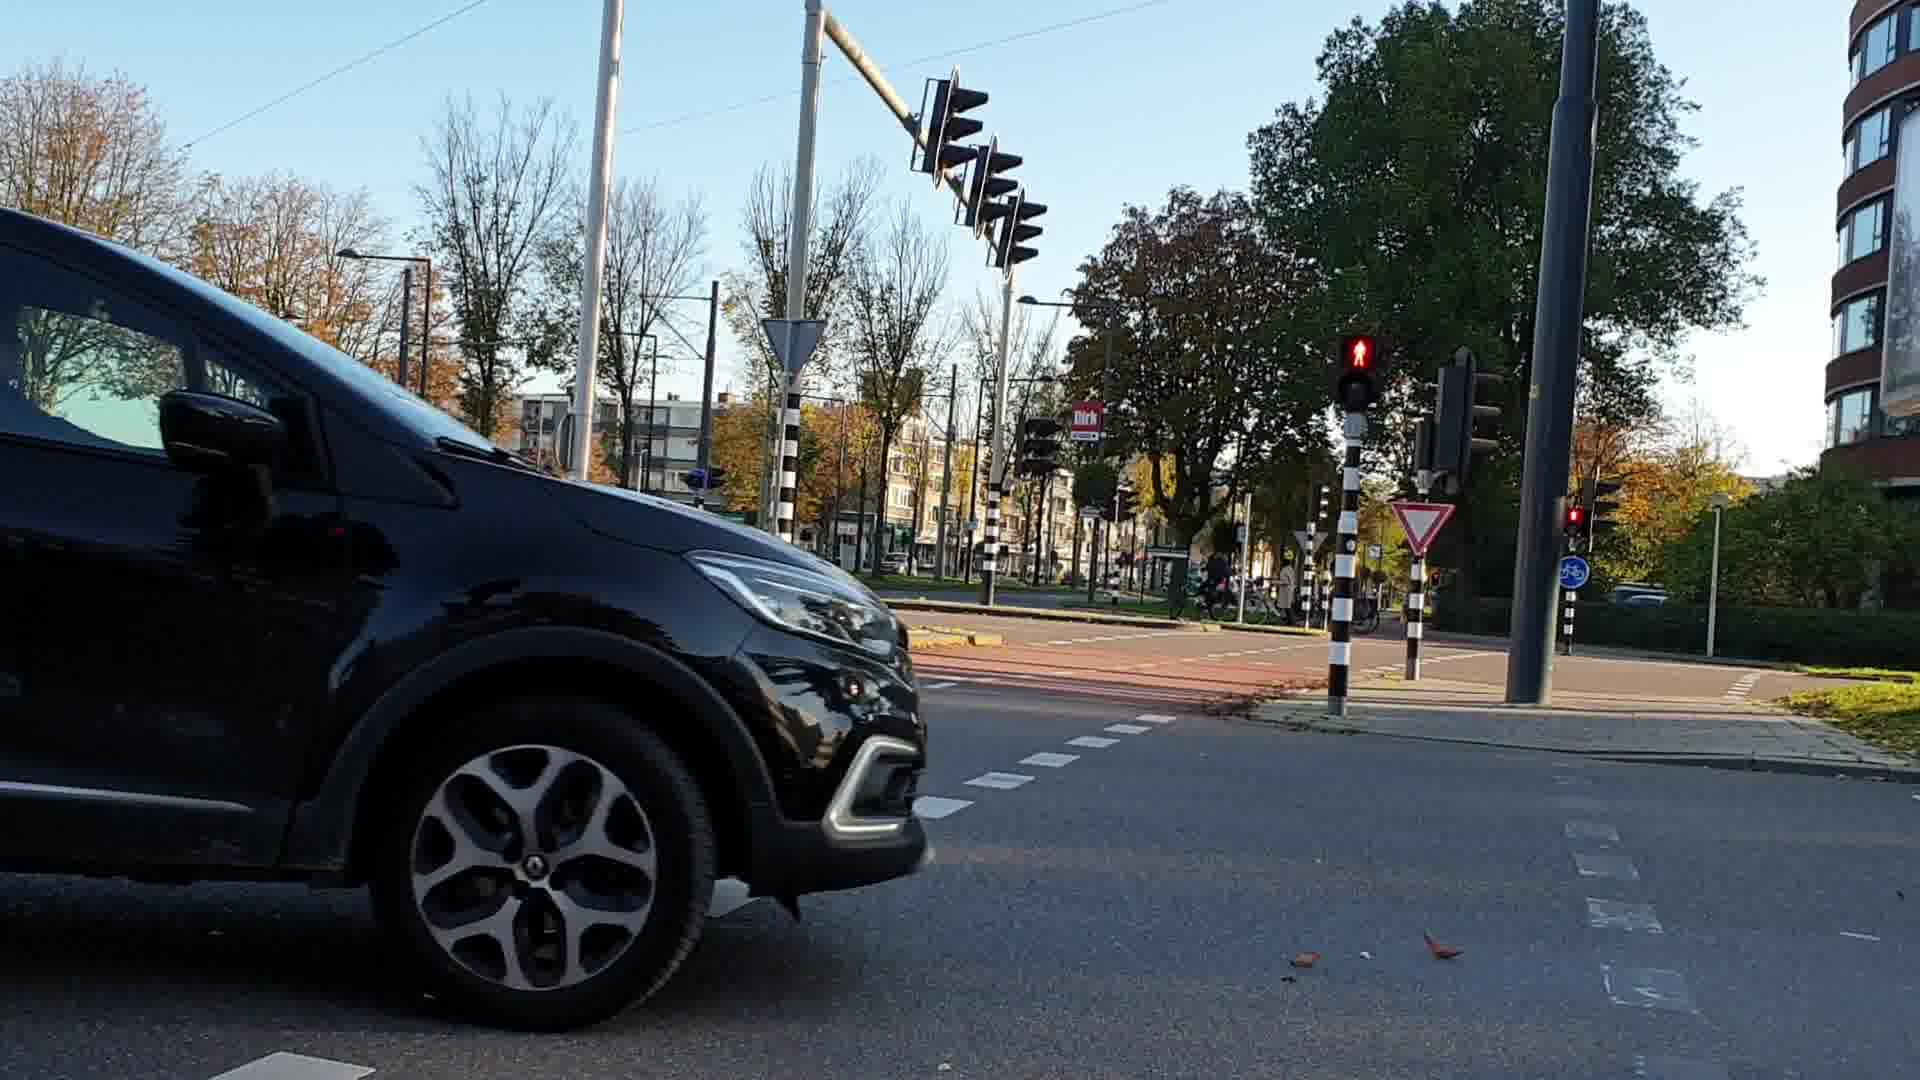car: (1, 192, 930, 1035)
